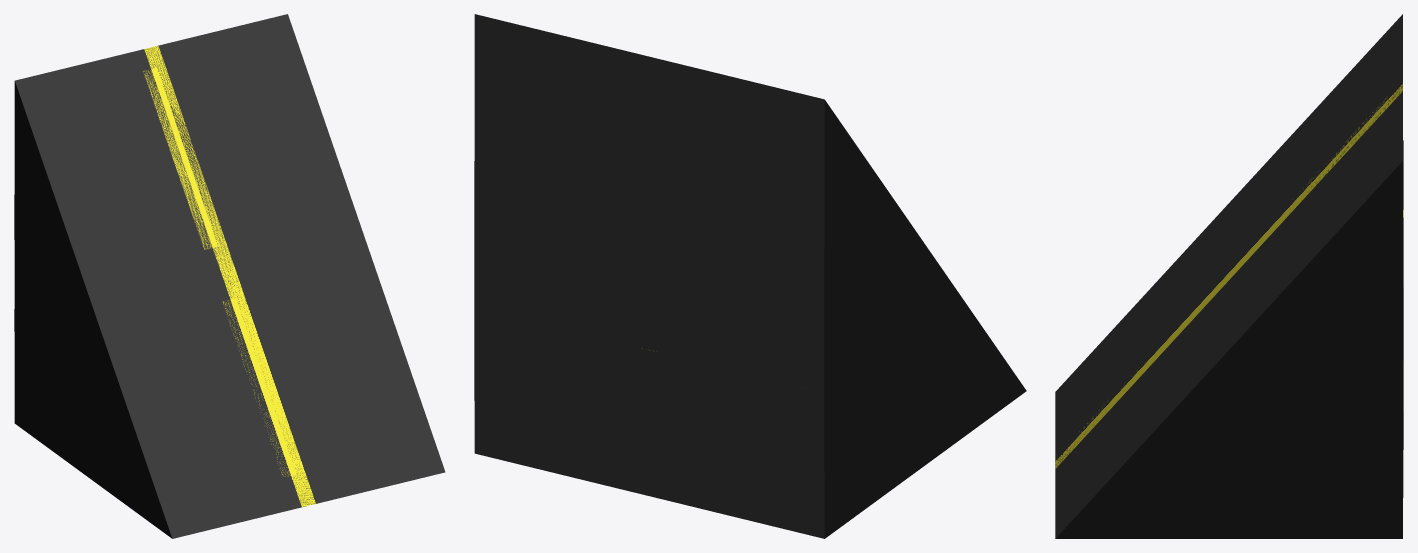
Rendered from Inclinados.fbx.
3 renders of one model, left to right at view 1: azimuth 30°, elevation 25°; view 2: azimuth 150°, elevation 25°; view 3: azimuth 270°, elevation 25°, orthographic. The views are drawn at different scales.
Parts seen in each view (by area): view 1: AsfaltoCont.Incli 12x, AsfaltoPontilhado.Incli 12x, AsfaltoCont-Incli 8x, AsfaltoCont-Incli 4x, AsfaltoPontilhado.Incli 8x, AsfaltoPontilhado.Incli 4x; view 2: AsfaltoCont.Incli 12x, AsfaltoCont-Incli 8x, AsfaltoCont-Incli 4x, AsfaltoPontilhado.Incli 12x, AsfaltoPontilhado.Incli 4x, AsfaltoPontilhado.Incli 8x; view 3: AsfaltoCont.Incli 12x, AsfaltoCont-Incli 8x, AsfaltoPontilhado.Incli 12x, AsfaltoPontilhado.Incli 4x, AsfaltoPontilhado.Incli 8x.
Part boxes in pixels (x1,y1,x2,y2): AsfaltoCont.Incli 12x: [14, 14, 445, 538]; AsfaltoPontilhado.Incli 12x: [14, 14, 444, 538]; AsfaltoCont-Incli 8x: [14, 195, 171, 537]; AsfaltoCont-Incli 4x: [14, 309, 170, 537]; AsfaltoPontilhado.Incli 8x: [14, 279, 168, 531]; AsfaltoPontilhado.Incli 4x: [15, 349, 169, 535]; AsfaltoCont.Incli 12x: [474, 14, 1026, 538]; AsfaltoCont-Incli 8x: [474, 161, 1026, 537]; AsfaltoCont-Incli 4x: [474, 307, 1024, 538]; AsfaltoPontilhado.Incli 12x: [474, 14, 1022, 534]; AsfaltoPontilhado.Incli 4x: [825, 391, 1021, 537]; AsfaltoPontilhado.Incli 8x: [676, 210, 1018, 536]; AsfaltoCont.Incli 12x: [1055, 14, 1402, 538]; AsfaltoCont-Incli 8x: [1057, 140, 1403, 538]; AsfaltoPontilhado.Incli 12x: [1055, 14, 1402, 538]; AsfaltoPontilhado.Incli 4x: [1081, 415, 1402, 538]; AsfaltoPontilhado.Incli 8x: [1070, 290, 1402, 538].
Bounding box in the file's own units: 1000 × 1200 × 1003.
